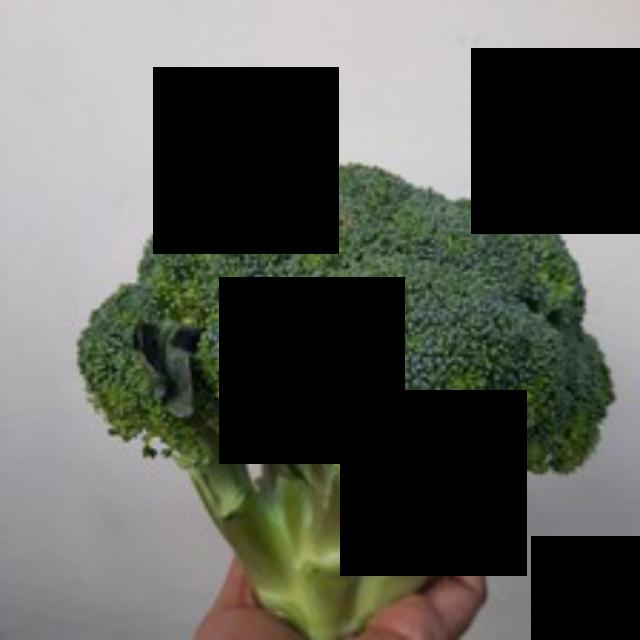broccoli: (80, 148, 622, 637)
